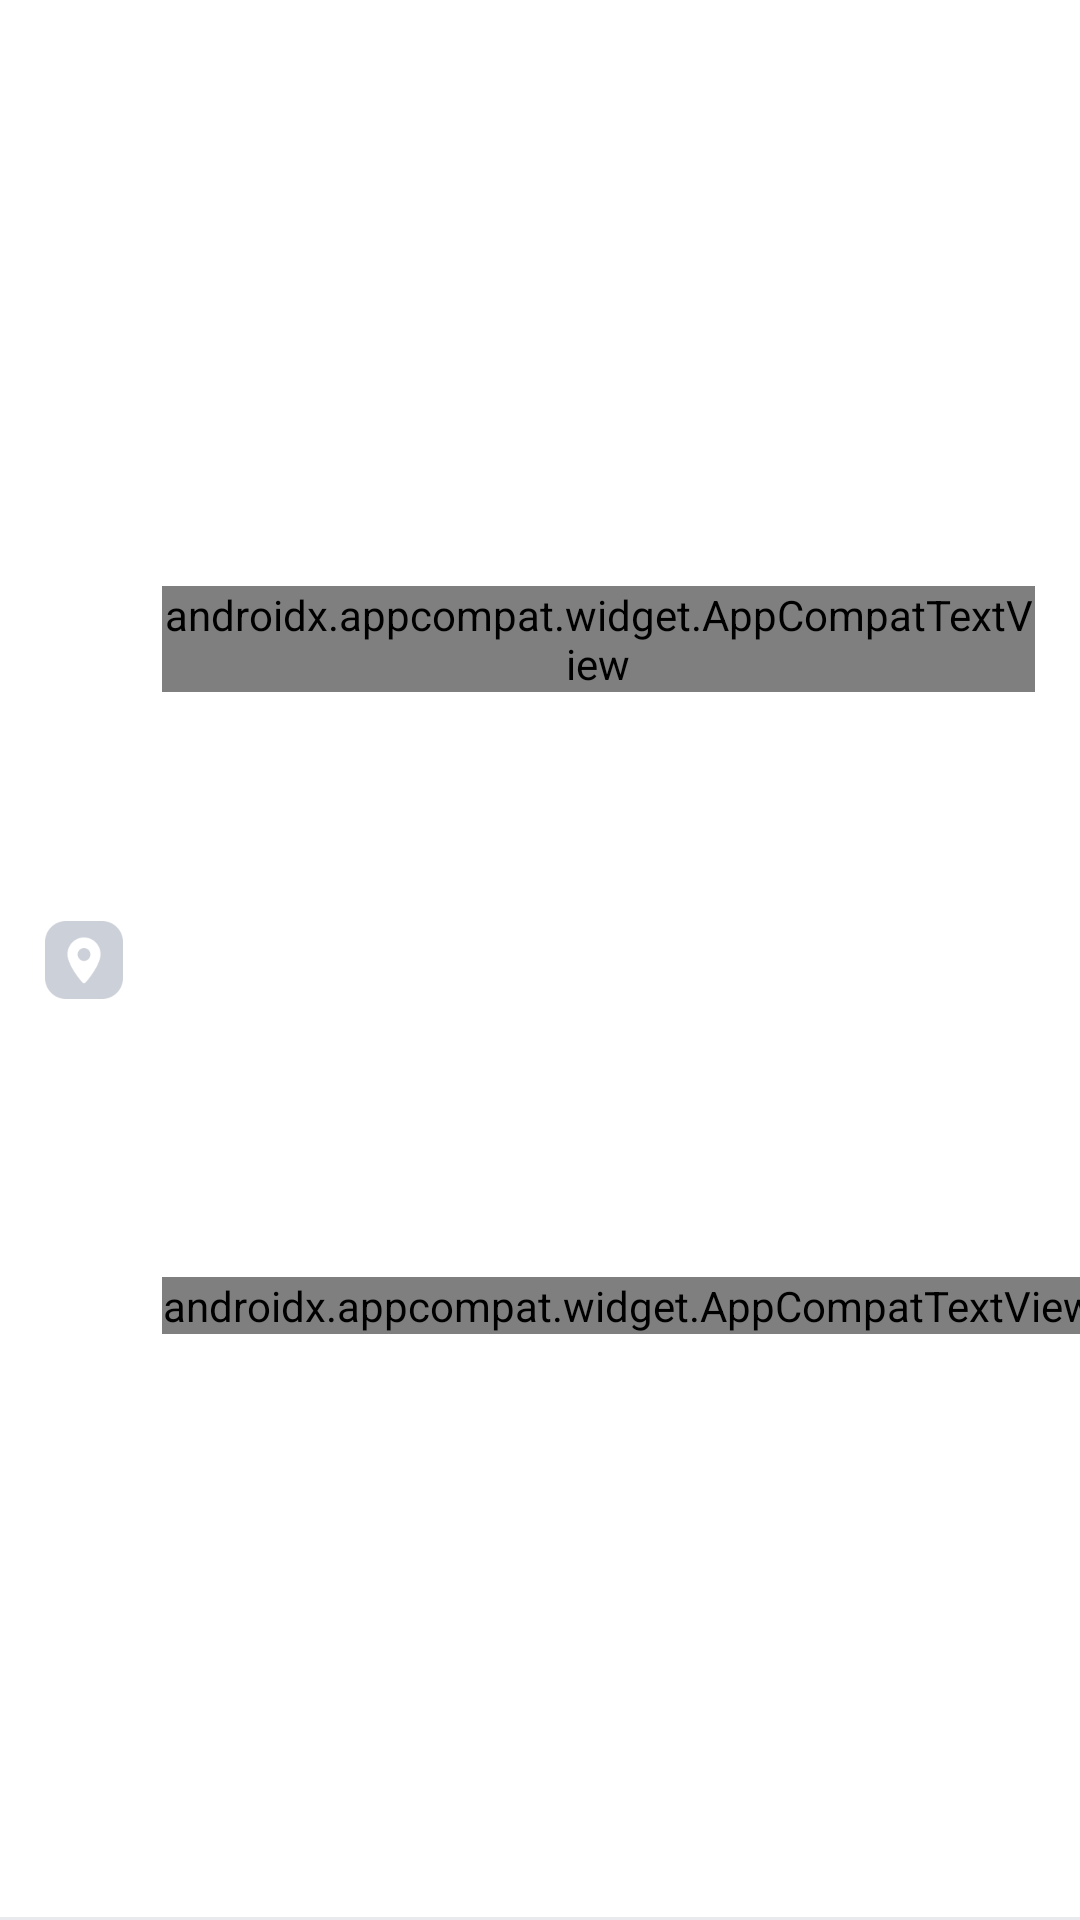

Locate icon controls on the screen. Image size 1080w x 1920h, boxes as (x1, y1, x2, y2).
location: (45, 921, 123, 999)
